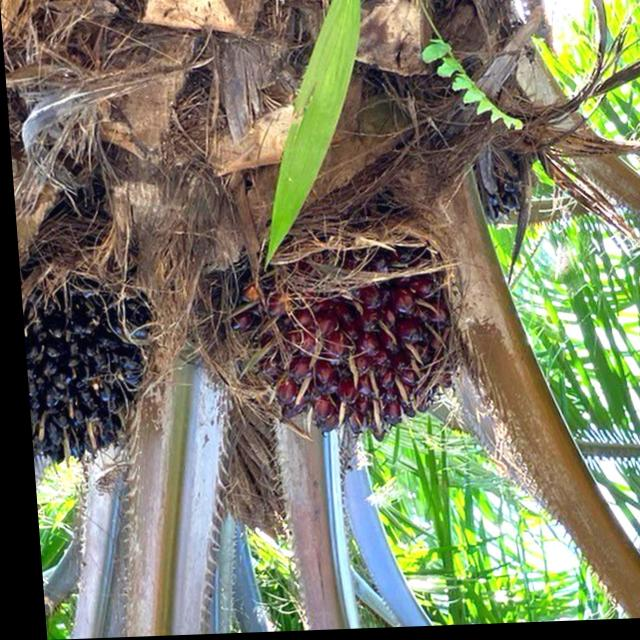ripe: (228, 241, 456, 449)
